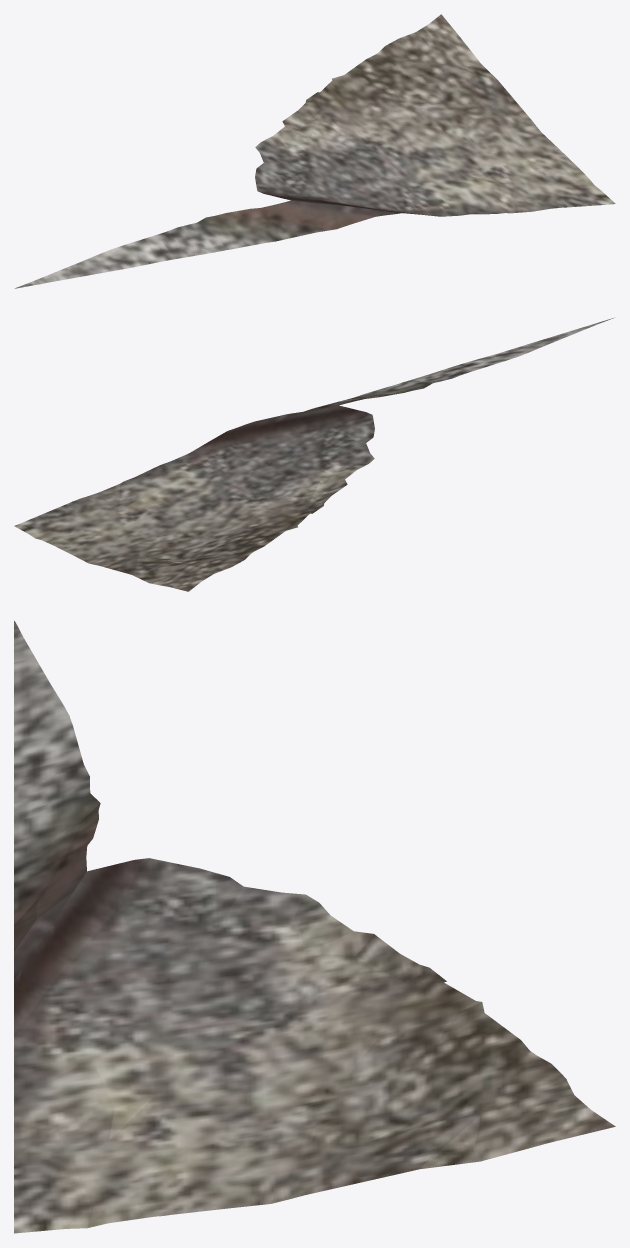
The picture shows the model from 3 angles, top to bottom: view 1: azimuth 30°, elevation 25°; view 2: azimuth 210°, elevation 25°; view 3: azimuth 270°, elevation 25°; orthographic projection. The views are drawn at different scales.
Size of the model in its own units: 0.7879 by 0.0775 by 0.3959.
1 material, 1 textured.
